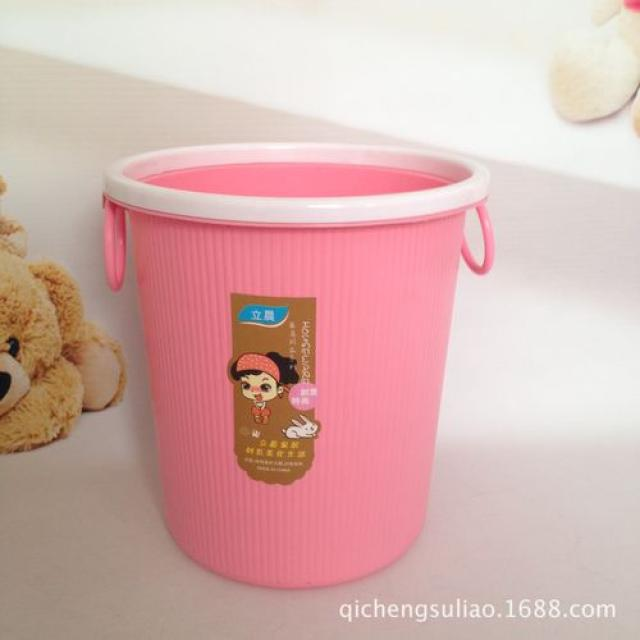dustbin: (99, 138, 500, 592)
